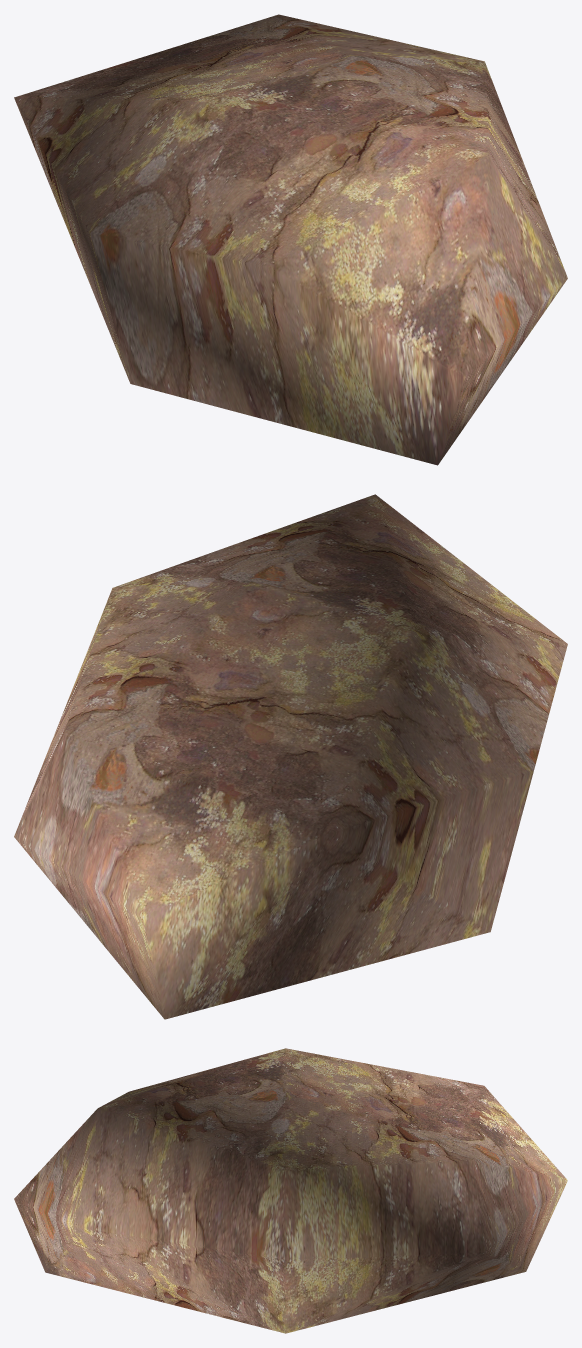
Rendered from boulder4.fbx.
3 views of the same model, one above another, from view 1: azimuth 30°, elevation 25°; view 2: azimuth 150°, elevation 25°; view 3: azimuth 270°, elevation 25° (orthographic). The views are drawn at different scales.
Visible parts, largest first — view 1: boulder4; view 2: boulder4; view 3: boulder4.
Boxes of the visible parts, x1=… form: boulder4: x1=14, y1=14, x2=567, y2=465; boulder4: x1=14, y1=494, x2=567, y2=1019; boulder4: x1=14, y1=1048, x2=567, y2=1333.
Size of the model in its own units: 21200 by 13000 by 31800.
